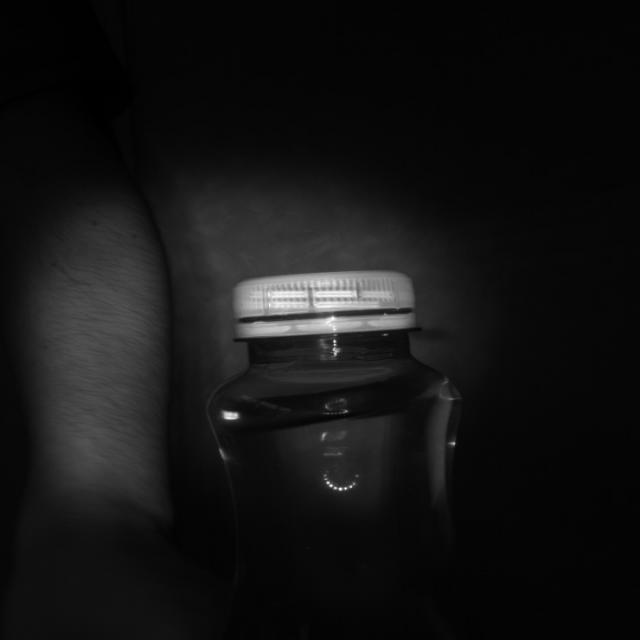Not Good: (233, 270, 415, 341)
